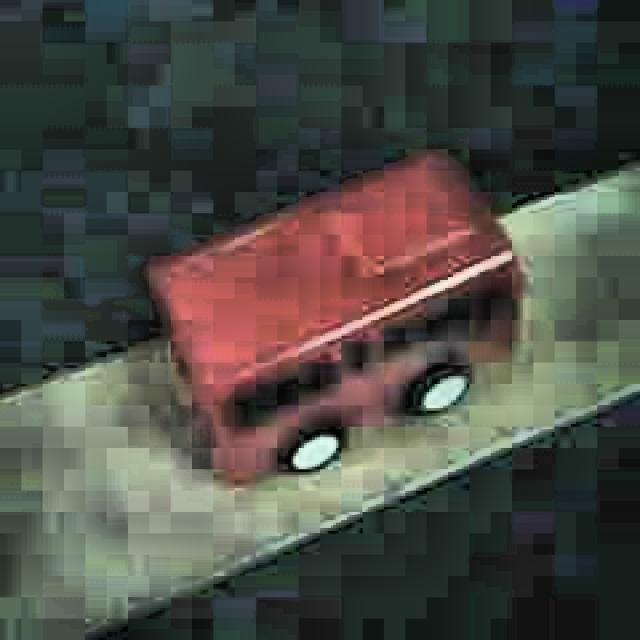bus: (143, 150, 525, 491)
